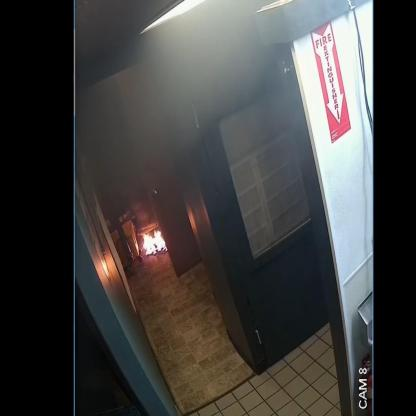fire: (142, 230, 166, 255)
